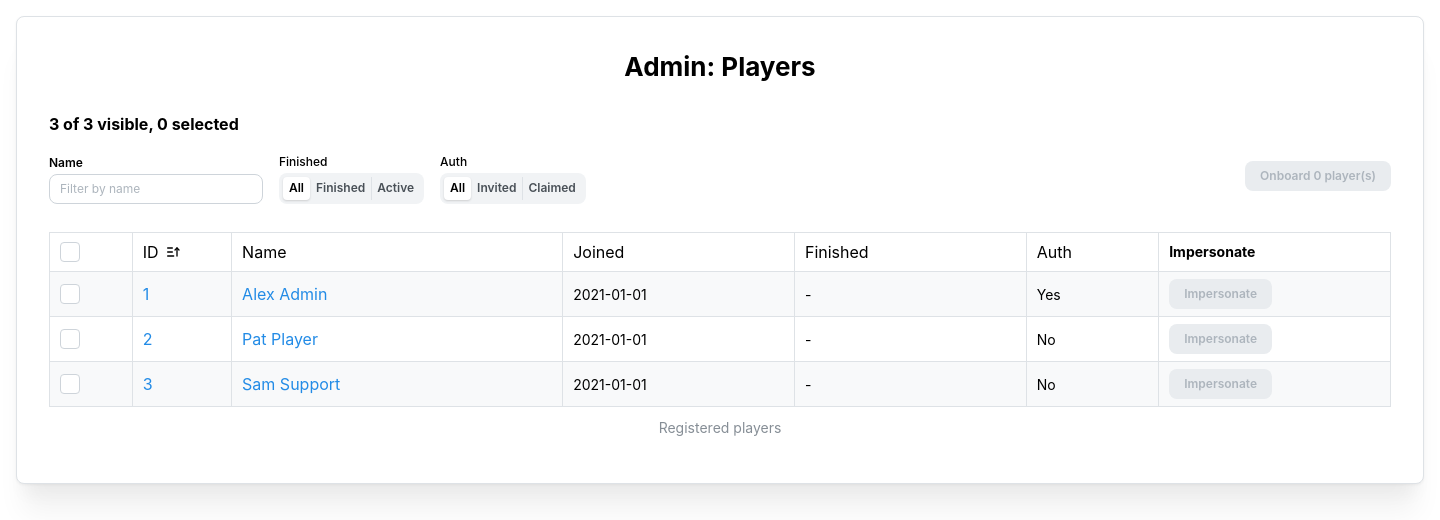
Scenario: AdminPlayerList › filters players by name
Type "Pat" into the field with placeholder "Filter by name" at (156, 189), box [49,174,263,204]
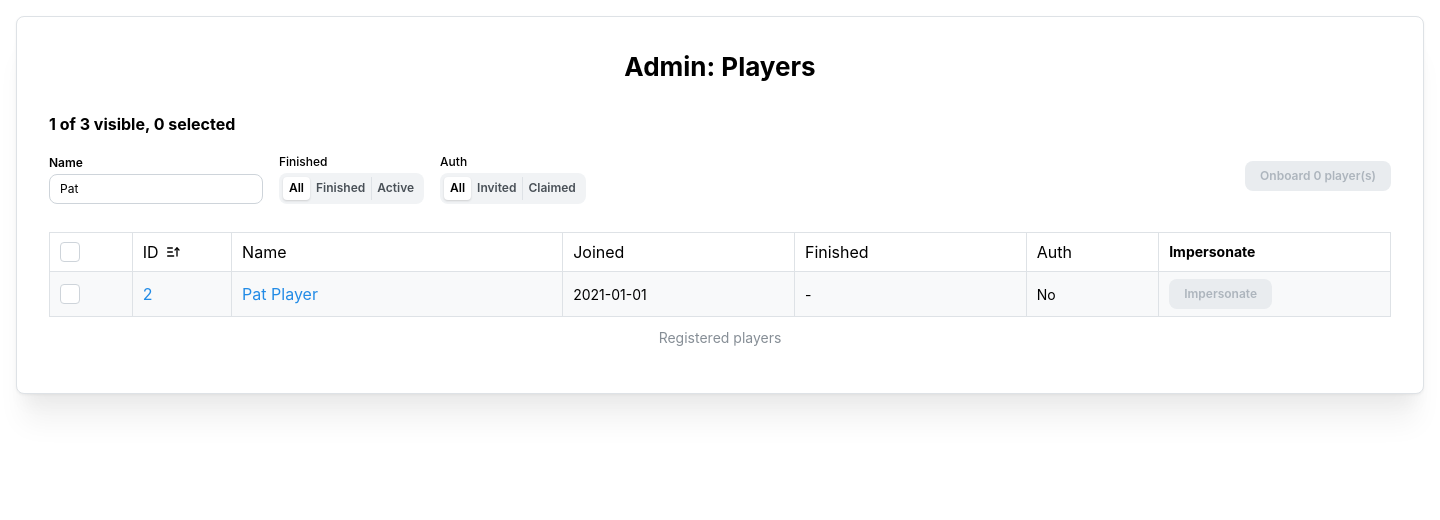
Check: the link "Pat Player" is shown, box [242,284,318,304]
Check: the link "Alex Admin" is gone
Check: the link "Sam Support" is gone
